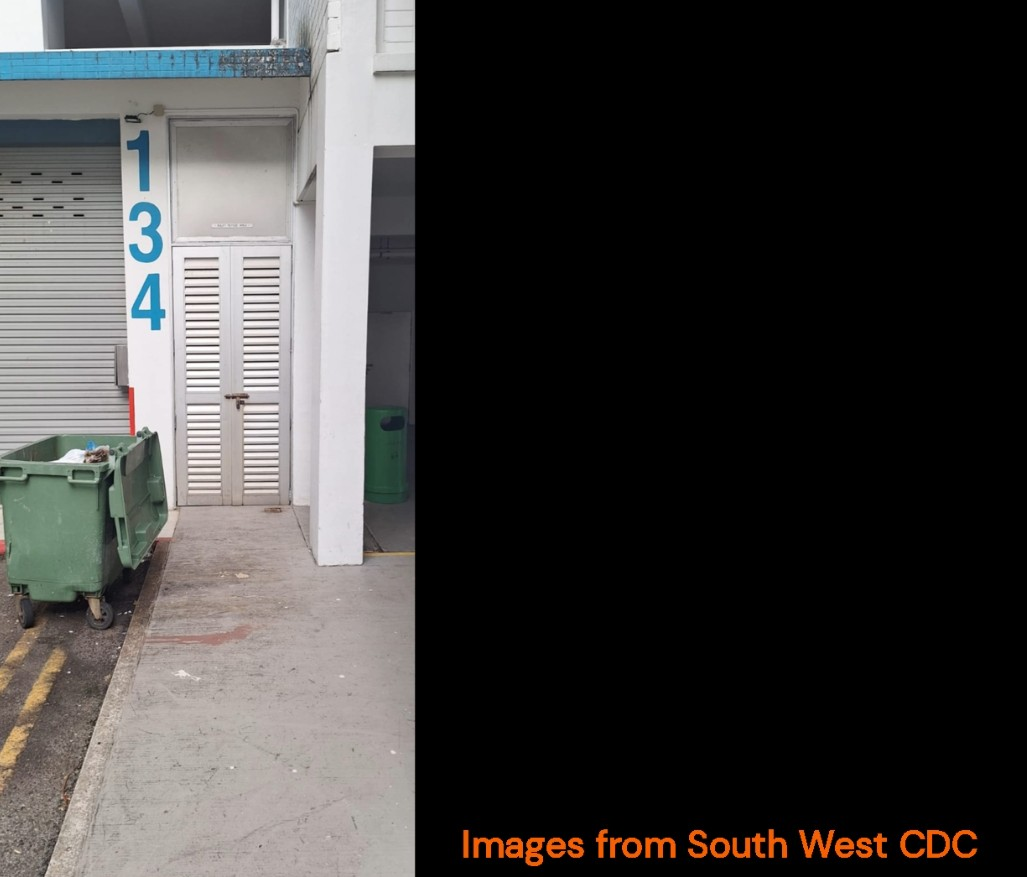bin_empty: (0, 428, 167, 628), (364, 406, 408, 503)
